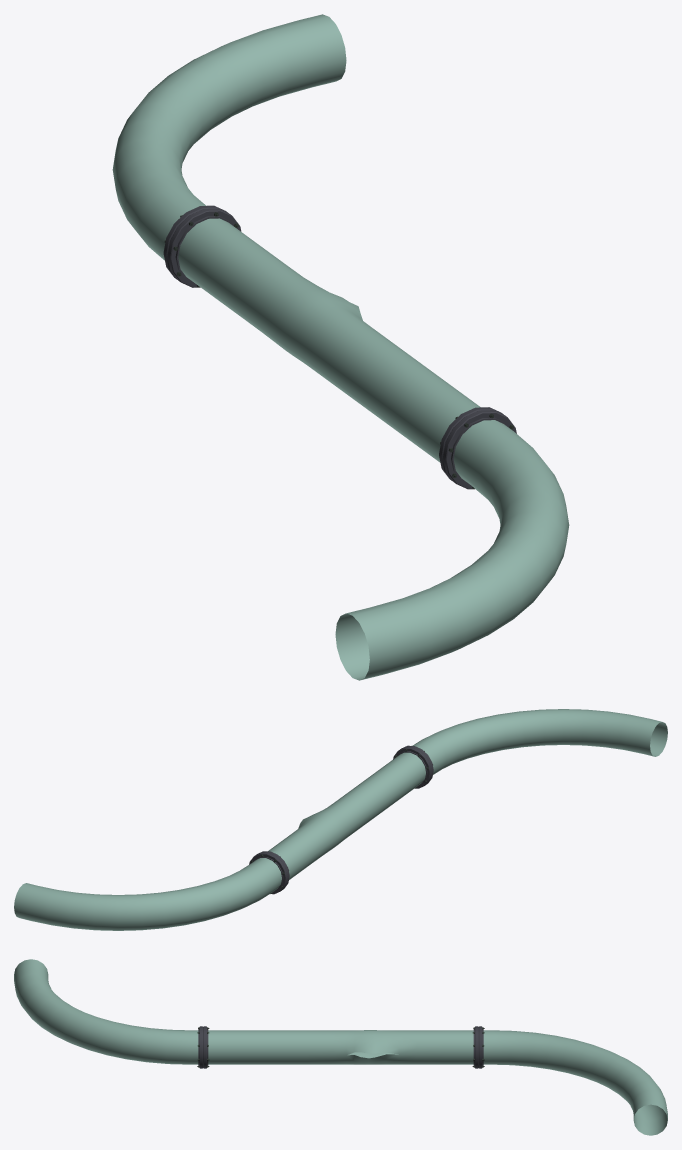
File: PipeComplexLarge_A2_17.fbx
The picture shows the model from 3 angles, top to bottom: view 1: azimuth 30°, elevation 25°; view 2: azimuth 150°, elevation 25°; view 3: azimuth 270°, elevation 25°; orthographic projection. The views are drawn at different scales.
Parts seen in each view (by area): view 1: PipeComplexLarge_A2_17.001; view 2: PipeComplexLarge_A2_17.001; view 3: PipeComplexLarge_A2_17.001.
Part boxes in pixels (x1,y1,x2,y2): PipeComplexLarge_A2_17.001: [112, 14, 569, 680]; PipeComplexLarge_A2_17.001: [14, 709, 667, 930]; PipeComplexLarge_A2_17.001: [14, 959, 667, 1135].
Size of the model in its own units: 2 by 0.245 by 3.8.
